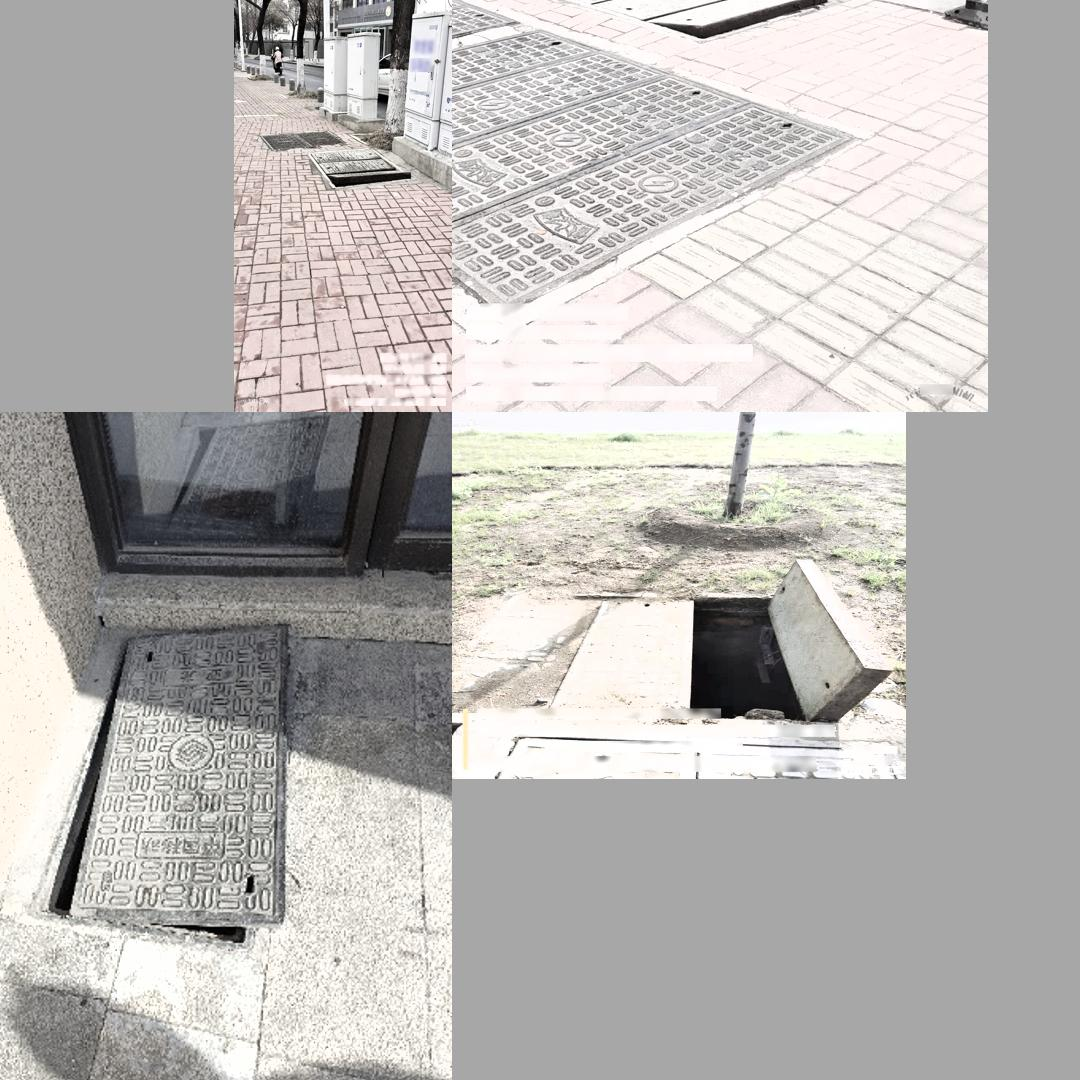good: (258, 128, 345, 153)
uncovered: (29, 619, 285, 949), (456, 561, 900, 734), (533, 0, 834, 40), (307, 148, 412, 192)
